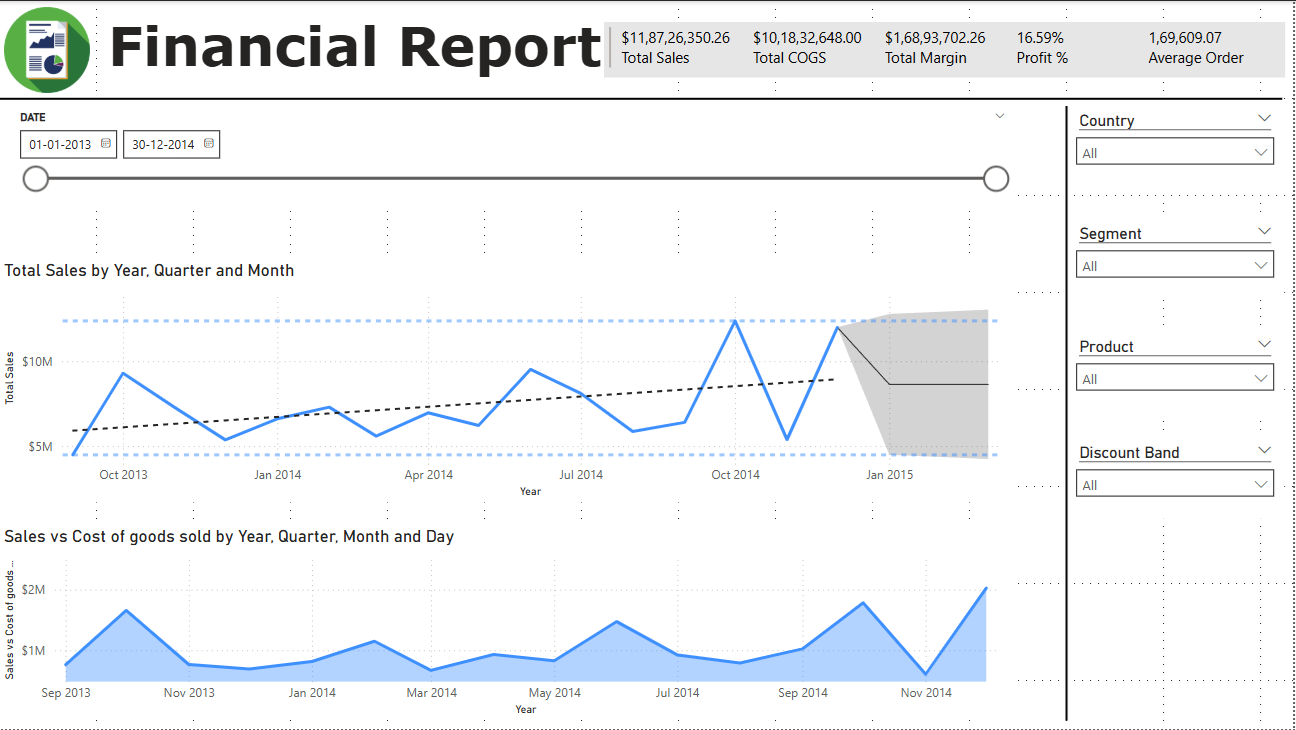

The page's visual inventory and layout, read from the dashboard file:
{"tool":"powerbi","page":{"name":"Duplicate of Fin Report 1","canvas":[1280,720],"ordinal":1},"visuals":[{"type":"textbox","box":[102.9,4.9,513.6,87.1],"z":0},{"type":"image","box":[0,0,95,97],"z":1000},{"type":"multiRowCard","fields":{"Values":["All Measures.Total Sales","All Measures.Total COGS","All Measures.Total Margin","All Measures.Profit %","All Measures.Average Order"]},"box":[598.8,20.8,674,55.4],"z":2000},{"type":"shape","box":[0,69.3,1279.7,55.4],"z":3000},{"type":"slicer","fields":{"Values":["financials.Country"]},"box":[1056,104,216,88],"z":4000},{"type":"slicer","fields":{"Values":["financials.Segment"]},"box":[1056,216,216,80],"z":5000},{"type":"slicer","fields":{"Values":["financials.Product"]},"box":[1056,328,216,88],"z":6000},{"type":"slicer","fields":{"Values":["financials.Discount Band"]},"box":[1056,432,216,80],"z":7000},{"type":"shape","box":[1008,104,96,608],"z":8000},{"type":"areaChart","fields":{"Category":["Date.Date.Variation.Date Hierarchy.Year","Date.Date.Variation.Date Hierarchy.Quarter","Date.Date.Variation.Date Hierarchy.Month","Date.Date.Variation.Date Hierarchy.Day"],"Y":["All Measures.Sales vs Cost of goods sold"]},"box":[0,520,1008,192],"z":9000},{"type":"lineChart","fields":{"Category":["Date.Date.Variation.Date Hierarchy.Year","Date.Date.Variation.Date Hierarchy.Quarter","Date.Date.Variation.Date Hierarchy.Month","Date.Date.Variation.Date Hierarchy.Day"],"Y":["All Measures.Total Sales"]},"box":[0,256,1008,240],"z":10000},{"type":"slicer","fields":{"Values":["Date.Date"]},"box":[8,104,1000,104],"z":11000}]}

Visuals, with their boxes in screenshot pixels (x1, y1, x2, y2):
textbox: region(190, 0, 685, 62)
image: region(91, 0, 183, 66)
multiRowCard - All Measures.Total Sales x All Measures.Total COGS: region(668, 0, 1295, 46)
shape: region(91, 40, 1295, 93)
slicer - financials.Country: region(1108, 73, 1295, 158)
slicer - financials.Segment: region(1108, 181, 1295, 258)
slicer - financials.Product: region(1108, 289, 1295, 374)
slicer - financials.Discount Band: region(1108, 389, 1295, 466)
shape: region(1062, 73, 1154, 659)
areaChart - Date.Date.Variation.Date Hierarchy.Year x Date.Date.Variation.Date Hierarchy.Quarter: region(91, 474, 1062, 659)
lineChart - Date.Date.Variation.Date Hierarchy.Year x Date.Date.Variation.Date Hierarchy.Quarter: region(91, 220, 1062, 451)
slicer - Date.Date: region(99, 73, 1062, 173)
